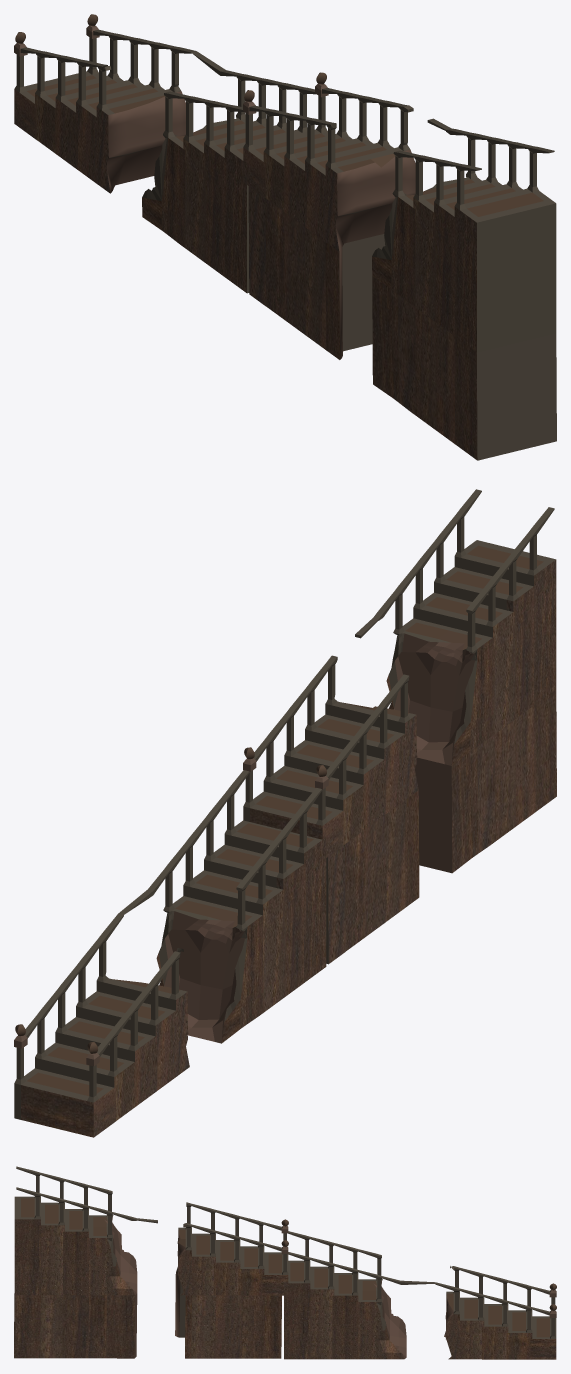
File: stairs.fbx
The picture shows the model from 3 angles, top to bottom: view 1: azimuth 30°, elevation 25°; view 2: azimuth 150°, elevation 25°; view 3: azimuth 270°, elevation 25°; orthographic projection. The views are drawn at different scales.
Parts seen in each view (by area): view 1: Cube.002; view 2: Cube.002; view 3: Cube.002.
Boxes of the visible parts, x1,y1,x2,y2 form: Cube.002: (14, 14, 556, 460); Cube.002: (14, 489, 556, 1137); Cube.002: (14, 1166, 556, 1359).
Bounding box in the file's own units: 217 × 701 × 2021.
